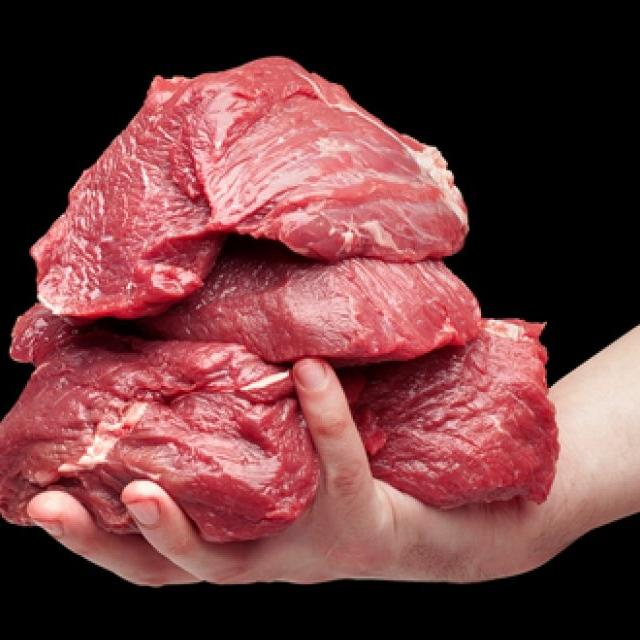beef: (9, 64, 557, 292), (0, 327, 591, 514), (0, 248, 520, 366)
